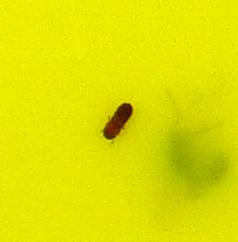Coleoptera: (100, 100, 138, 142)
